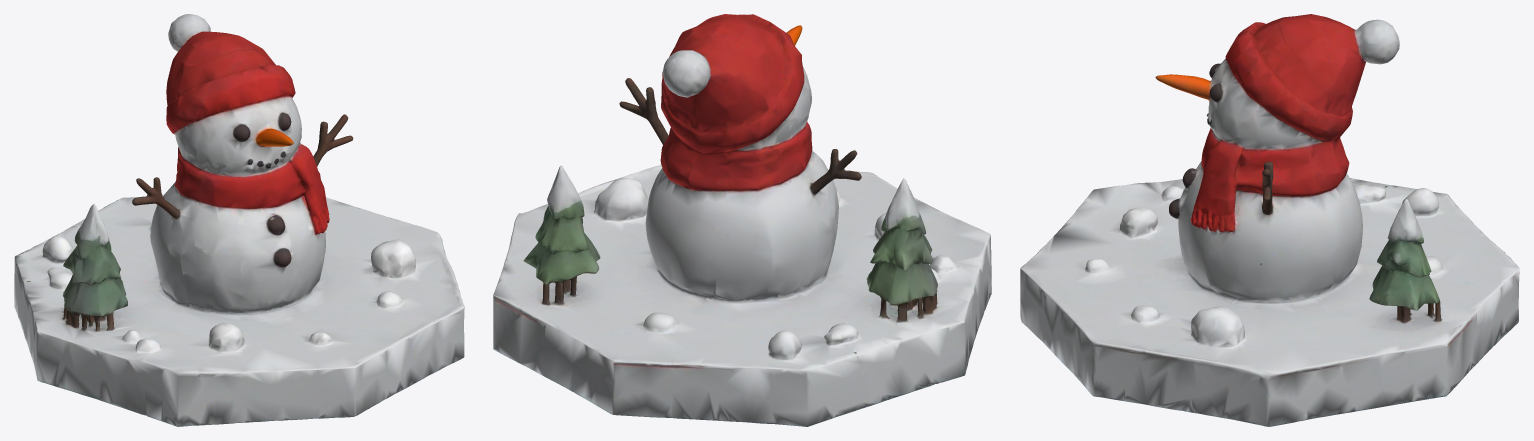
Rendered from snowman.glb.
3 views of the same model, side by side, from view 1: azimuth 30°, elevation 25°; view 2: azimuth 150°, elevation 25°; view 3: azimuth 270°, elevation 25° (orthographic). The views are drawn at different scales.
Bounding box in the file's own units: 2 × 1.34 × 2.
Materials: 1 (1 with a texture image).
